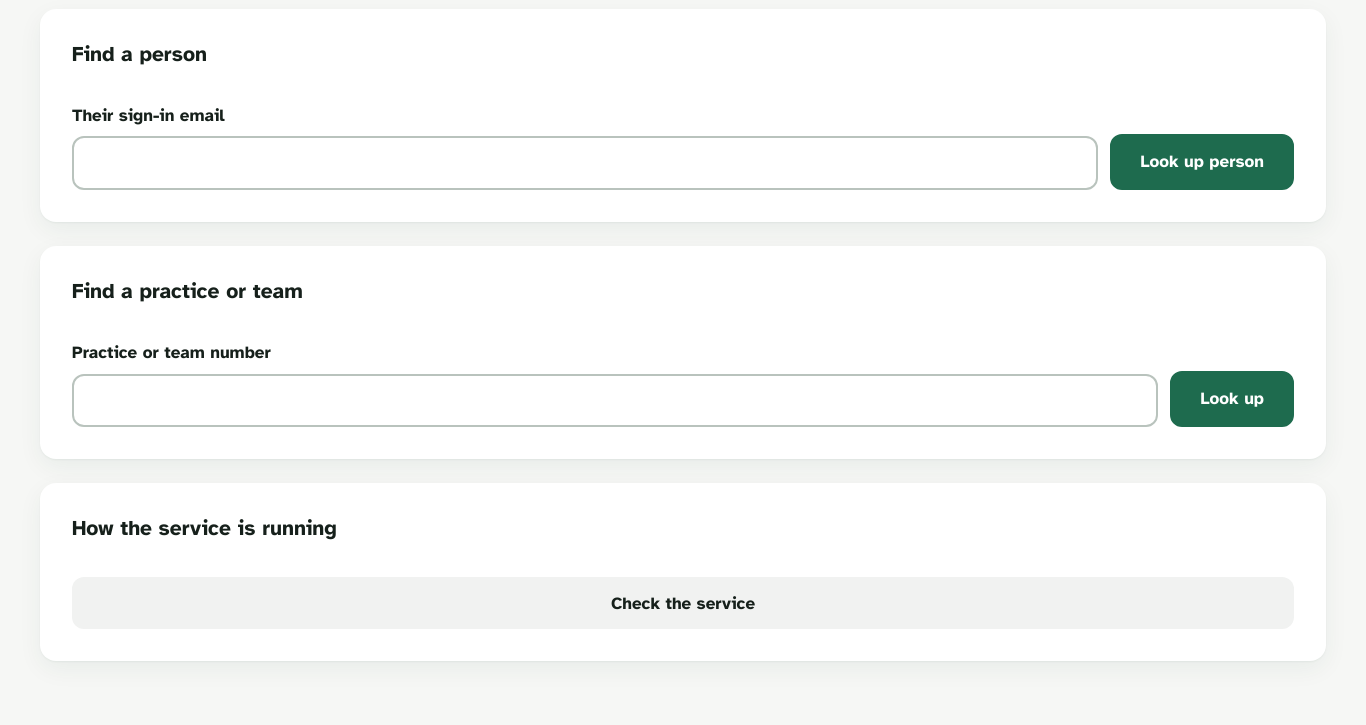
it: the service check says what is working, and what a silent worker means
(page scrolled)
What coordinates should you click on to do the following:
click the button "Check the service"
I would click on:
 (683, 603)
Its box is x1=72 y1=577 x2=1294 y2=629.
(page scrolled)
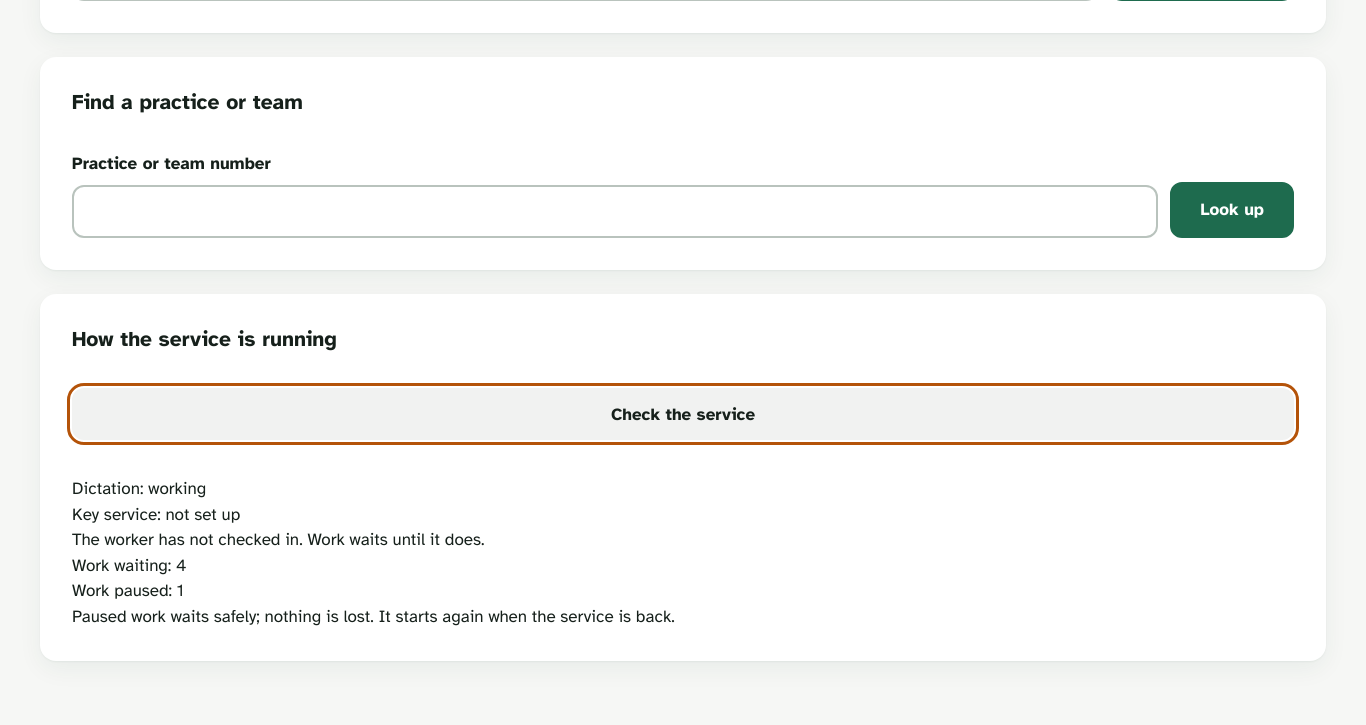
Expected: the text "Dictation: working" is shown, x1=72 y1=478 x2=206 y2=499
Expected: the text "Key service: not set up" is shown, x1=72 y1=504 x2=240 y2=525
Expected: the text "The worker has not checked in. Work waits until it does." is shown, x1=72 y1=529 x2=484 y2=550
